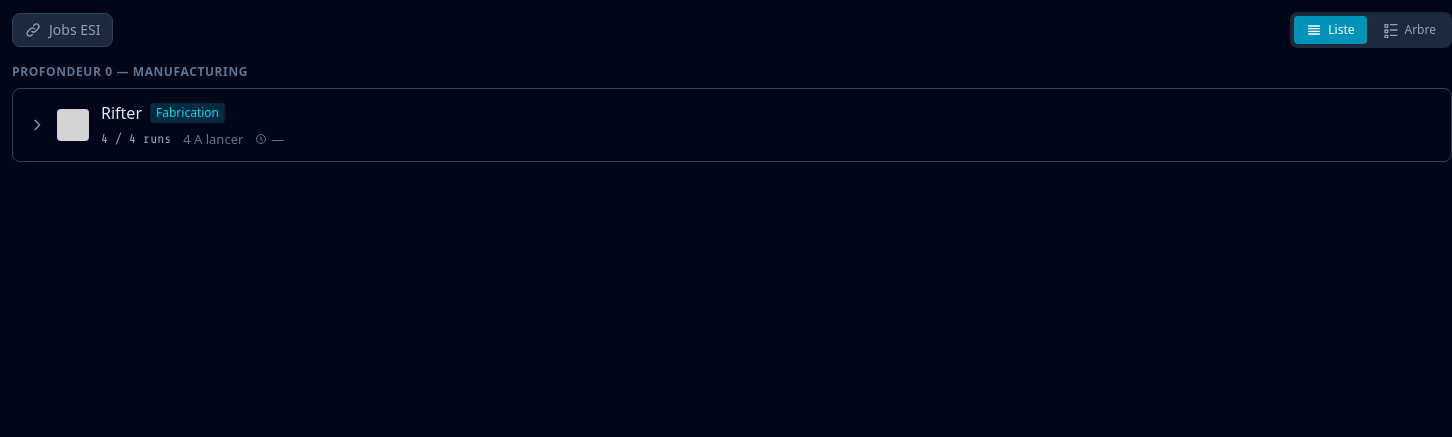
Scenario: StepsTab job sync failures › names a character without token in french
Click the button "Jobs ESI" at (63,30), box [12,13,114,47]
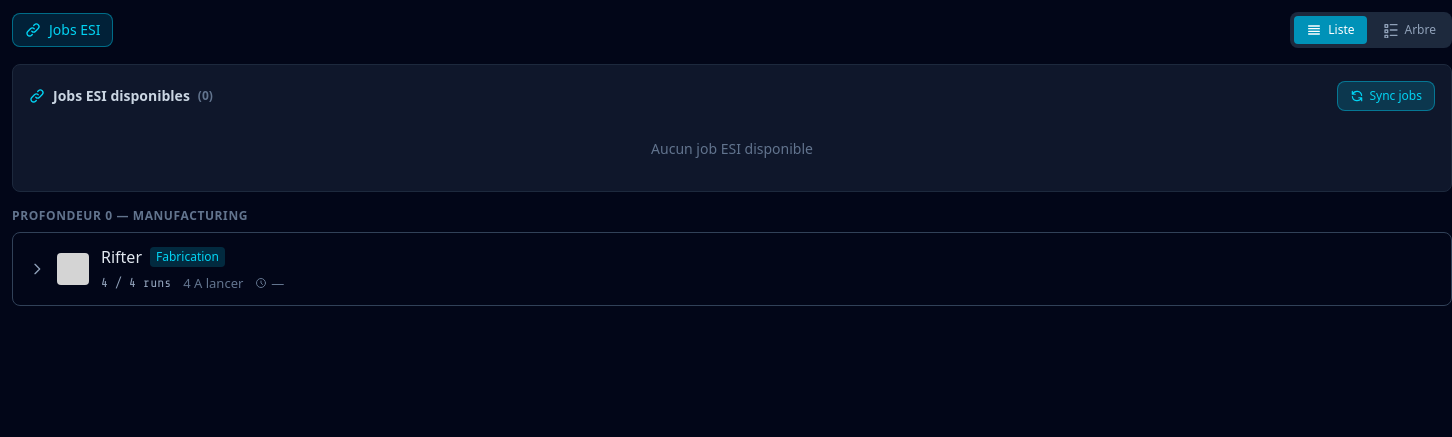
Click the button "Sync jobs" at (1386,96), box [1336,81,1435,111]
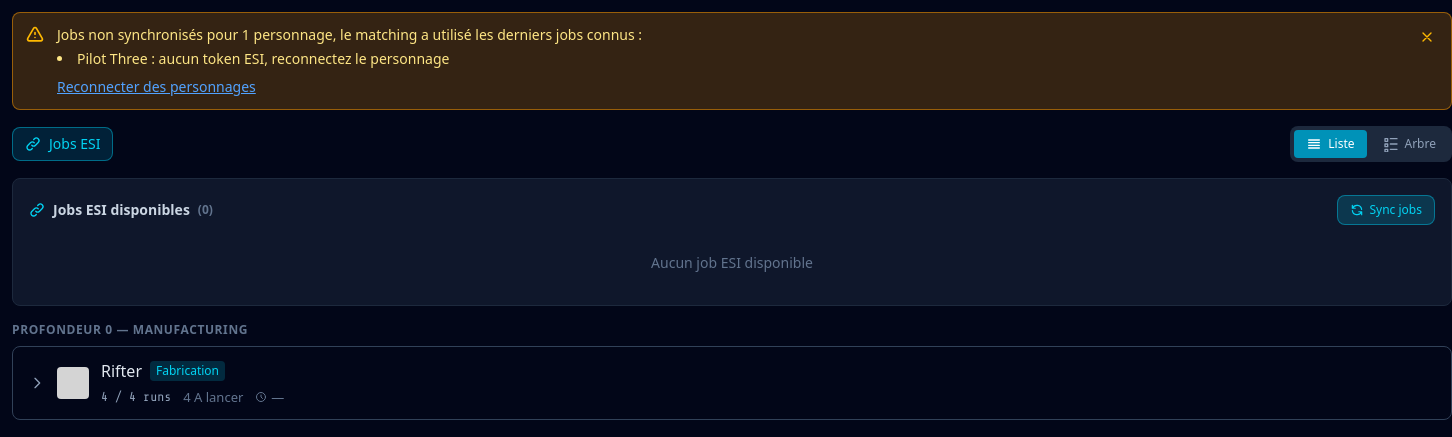
Now the number of elements with test id "jobs-sync-failures" is 1, box [12,12,1451,110]
Now the element with test id "jobs-sync-failures" shows "Jobs non synchronisés pour 1 personnage, le matching a utilisé les derniers jobs connus :", box [57,25,642,44]
